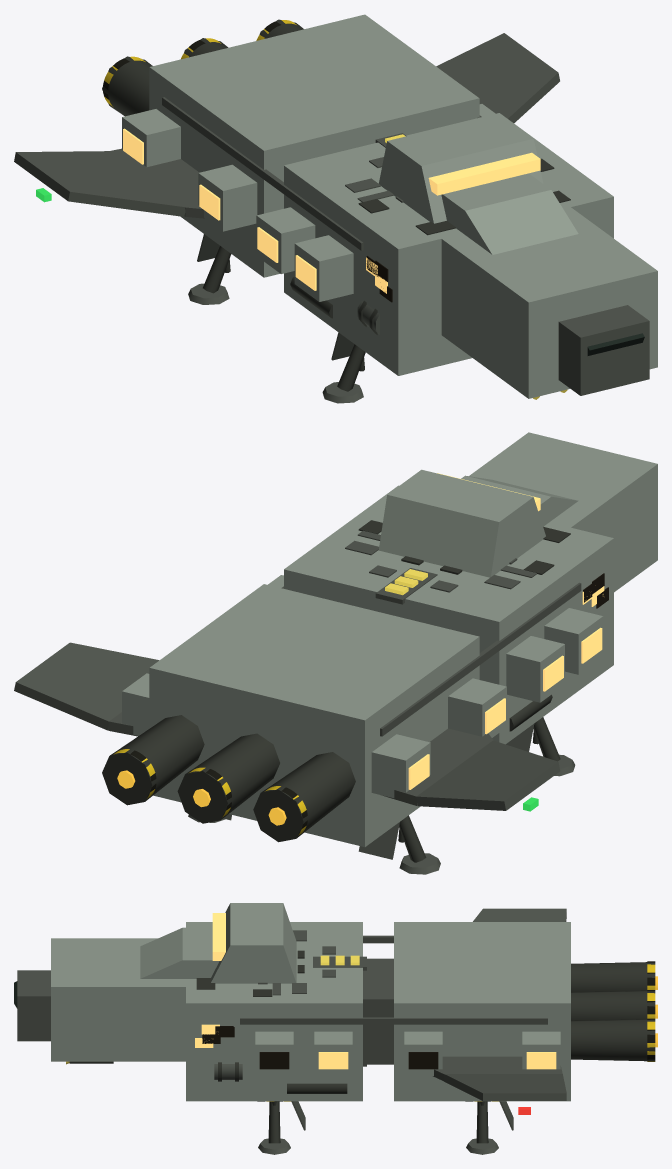
File: liner-m.glb
3 views of the same model, one above another, from view 1: azimuth 30°, elevation 25°; view 2: azimuth 150°, elevation 25°; view 3: azimuth 270°, elevation 25° (orthographic). The views are drawn at different scales.
Visible parts, largest first — view 1: hullSection1, hullNose, hullMain, bridgeHouse, canopyFairing, hullNoseTip, wingOuterLeft, wingOuterRight, passengerPod1L, passengerPod3L, wingInnerLeft, passengerPod2L (+7 smaller); view 2: hullSection1, hullMain, engineHousing (×3), hullNose, bridgeHouse, wingOuterRight, wingOuterLeft, passengerPod0L, passengerPod2L, passengerPod3L, wingInnerLeft, passengerPod1L (+6 smaller); view 3: hullSection1, hullMain, hullNose, engineHousing (×3), bridgeHouse, canopyFairing, gantry0, wingOuterRight, hullNoseTip, accentStripeR, wingInnerRight, passengerPod0R (+13 smaller).
Part boxes in pixels (bbox=[...]): hullSection1: bbox=[149, 14, 479, 277]; hullNose: bbox=[441, 203, 657, 398]; hullMain: bbox=[284, 113, 613, 375]; bridgeHouse: bbox=[378, 113, 543, 223]; canopyFairing: bbox=[441, 173, 578, 254]; hullNoseTip: bbox=[558, 305, 649, 395]; wingOuterLeft: bbox=[14, 151, 185, 216]; wingOuterRight: bbox=[436, 33, 559, 123]; passengerPod1L: bbox=[294, 235, 353, 301]; passengerPod3L: bbox=[198, 164, 257, 231]; wingInnerLeft: bbox=[109, 148, 204, 218]; passengerPod2L: bbox=[122, 109, 180, 166]; hullSection1: bbox=[149, 584, 479, 847]; hullMain: bbox=[284, 485, 613, 744]; engineHousing (×3): bbox=[102, 715, 355, 842]; hullNose: bbox=[469, 432, 657, 592]; bridgeHouse: bbox=[378, 469, 545, 577]; wingOuterRight: bbox=[14, 642, 159, 730]; wingOuterLeft: bbox=[416, 740, 560, 810]; passengerPod0L: bbox=[506, 636, 564, 702]; passengerPod2L: bbox=[371, 734, 430, 798]; passengerPod3L: bbox=[448, 678, 506, 737]; wingInnerLeft: bbox=[383, 728, 493, 805]; passengerPod1L: bbox=[544, 608, 603, 674]; hullSection1: bbox=[394, 922, 570, 1101]; hullMain: bbox=[186, 922, 362, 1101]; hullNose: bbox=[51, 938, 185, 1061]; engineHousing (×3): bbox=[571, 962, 655, 1061]; bridgeHouse: bbox=[211, 903, 296, 983]; canopyFairing: bbox=[140, 927, 219, 978]; gantry0: bbox=[363, 958, 393, 1064]; wingOuterRight: bbox=[444, 1074, 566, 1100]; hullNoseTip: bbox=[17, 970, 50, 1041]; accentStripeR: bbox=[240, 1017, 547, 1024]; wingInnerRight: bbox=[433, 1056, 562, 1081]; passengerPod0R: bbox=[314, 1031, 352, 1075].
Size of the model in its own units: 5.5 by 2.53 by 8.03.
